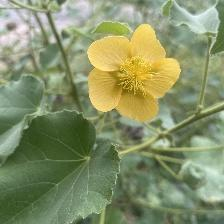indian mallow: (88, 24, 183, 122)
